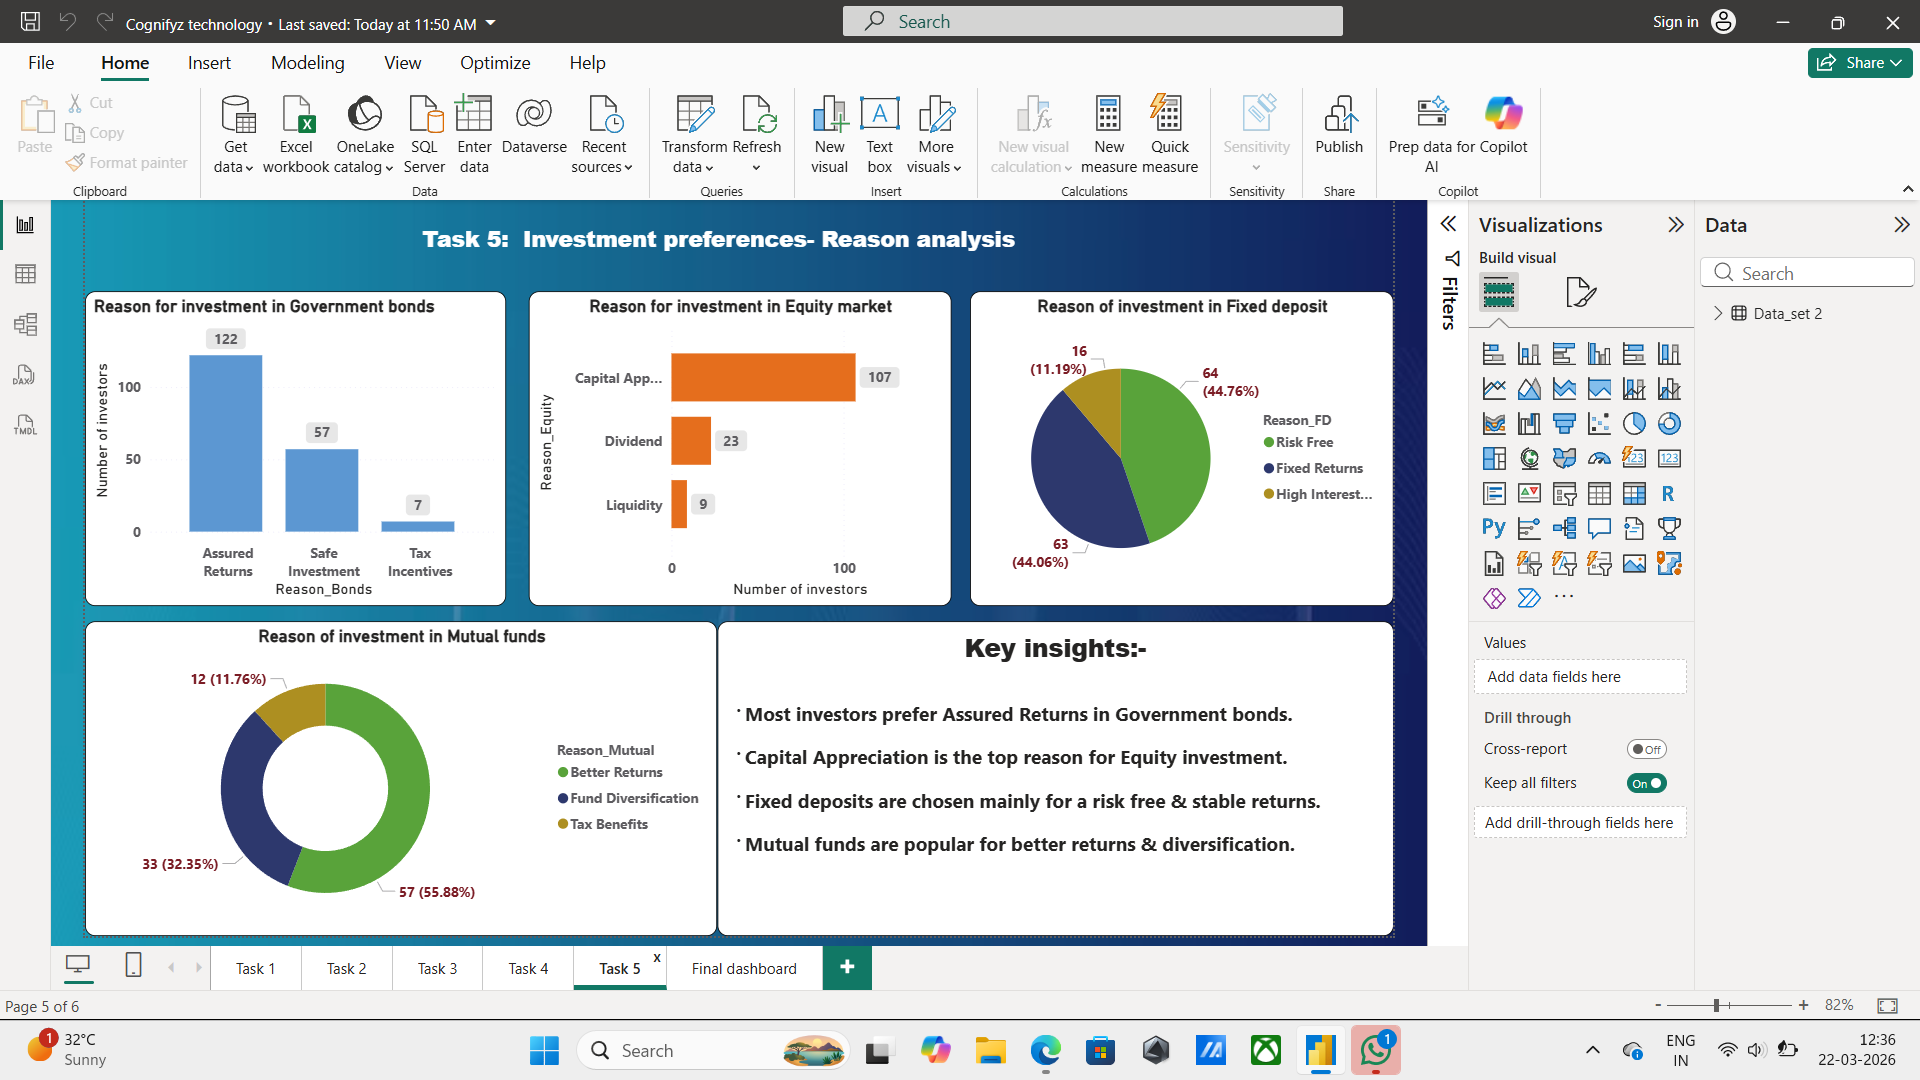

Layout of this report page (visuals, bound fields, positions):
{"tool":"powerbi","page":{"name":"Task 5","canvas":[1280,720],"ordinal":4},"visuals":[{"type":"columnChart","title":"Reason for investment in Government bonds","fields":{"Category":["Data_set 2.Reason_Bonds"],"Y":["Sum(Data_set 2.Government_Bonds)"]},"box":[0,89.3,412.1,308.2],"z":0},{"type":"barChart","title":"Reason for investment in Equity market","fields":{"Category":["Data_set 2.Reason_Equity"],"Y":["Sum(Data_set 2.Equity_Market)"]},"box":[434.1,89.3,413.3,308.2],"z":1000},{"type":"pieChart","title":"Reason of investment in Fixed deposit","fields":{"Category":["Data_set 2.Reason_FD"],"Y":["Sum(Data_set 2.Fixed_Deposits)"]},"box":[865.8,89.3,414.5,308.2],"z":2000},{"type":"donutChart","title":"Reason of investment in Mutual funds","fields":{"Category":["Data_set 2.Reason_Mutual"],"Y":["Sum(Data_set 2.Mutual_Funds)"]},"box":[0,412.1,618.8,308.2],"z":3000},{"type":"textbox","box":[618.8,412.1,661.6,308.2],"z":4000},{"type":"textbox","box":[277.6,0,684.8,78.3],"z":5000}]}

Visuals, with their boxes on the page's 1280x720 design canvas (x1, y1, x2, y2). These are canvas units, not pixel positions in the 1920x1080 screenshot, which may show the page scaled, cropped or inside an application window:
"Reason for investment in Government bonds" columnChart: [0,89,412,398]
"Reason for investment in Equity market" barChart: [434,89,847,398]
"Reason of investment in Fixed deposit" pieChart: [866,89,1280,398]
"Reason of investment in Mutual funds" donutChart: [0,412,619,720]
textbox: [619,412,1280,720]
textbox: [278,0,962,78]
